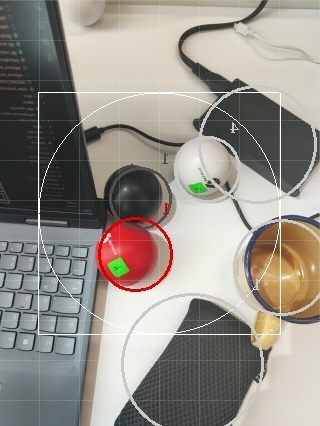Pelota blanca: (234, 214, 320, 325), (173, 134, 241, 200), (58, 0, 108, 27)
Pelota negra: (103, 164, 177, 222)
Pelota roja: (95, 214, 175, 294)
